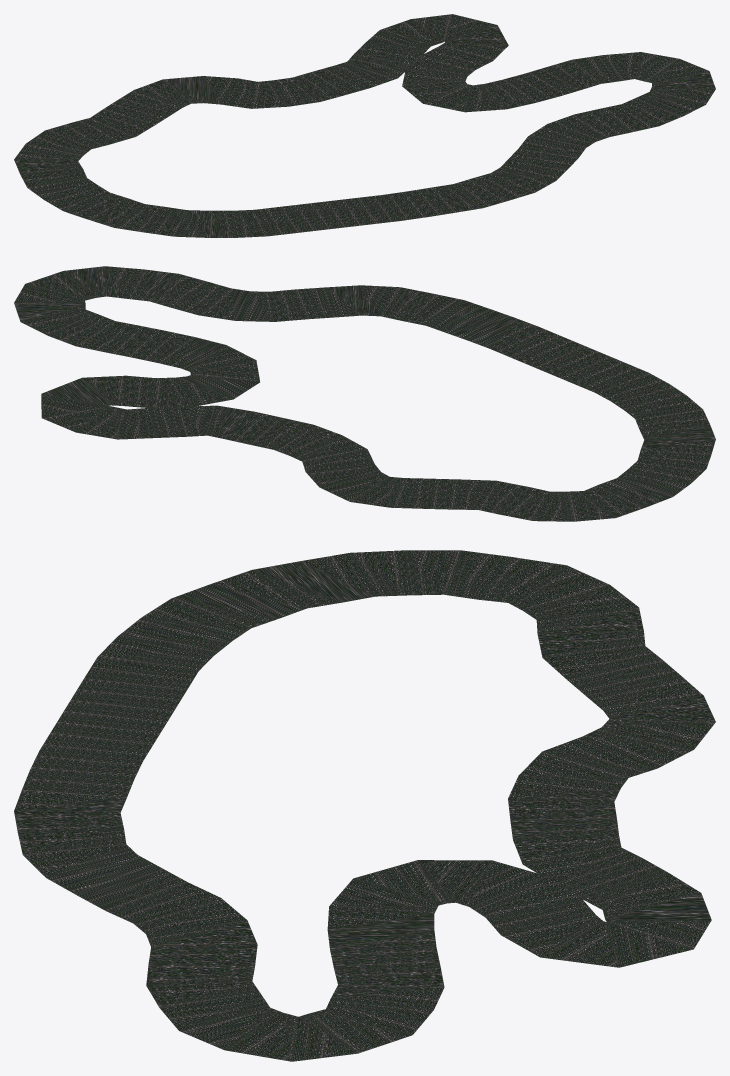
The model's file is RoadTestFlat.glb.
3 renders of one model, top to bottom at view 1: azimuth 30°, elevation 25°; view 2: azimuth 150°, elevation 25°; view 3: azimuth 270°, elevation 25°, orthographic. The views are drawn at different scales.
Visible parts, largest first — view 1: CSGBakedMeshInstance3D; view 2: CSGBakedMeshInstance3D; view 3: CSGBakedMeshInstance3D.
Part boxes in pixels (left/top/right/bottom): CSGBakedMeshInstance3D: left=14, top=14, right=715, bottom=237; CSGBakedMeshInstance3D: left=14, top=266, right=715, bottom=521; CSGBakedMeshInstance3D: left=14, top=550, right=715, bottom=1061.
Size of the model in its own units: 454 by 1.22 by 263.
Materials: 1 (1 with a texture image).
